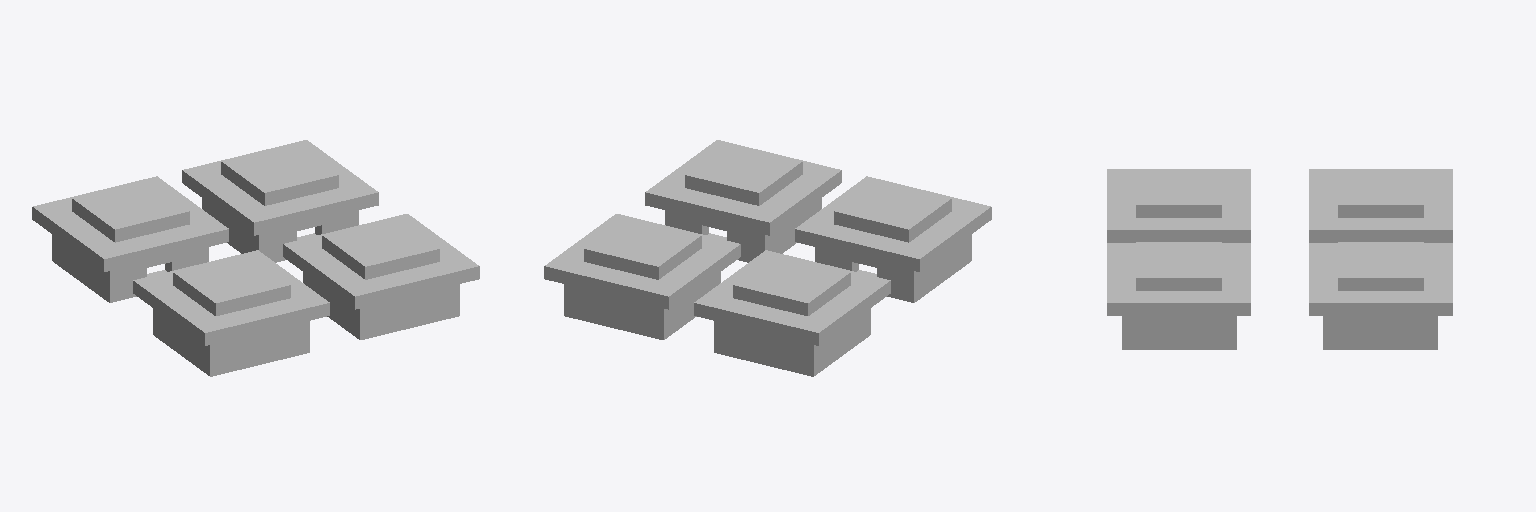
File: mesh_bldg_shops_01.obj
The picture shows the model from 3 angles: view 1: azimuth 30°, elevation 25°; view 2: azimuth 150°, elevation 25°; view 3: azimuth 270°, elevation 25°; orthographic projection.
Size of the model in its own units: 0.6875 by 0.1562 by 0.75.